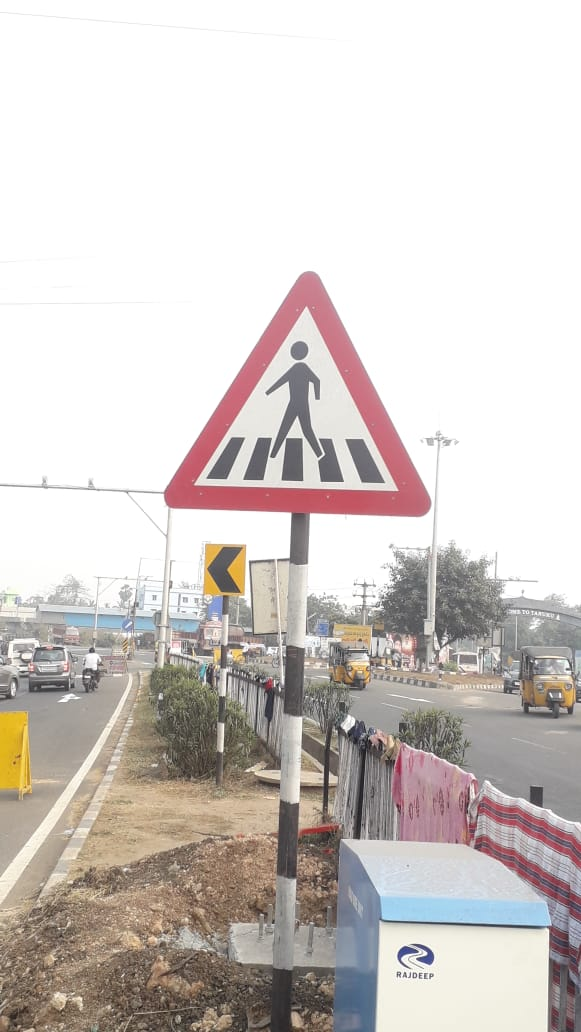pedestrian crossing: (161, 230, 443, 552)
